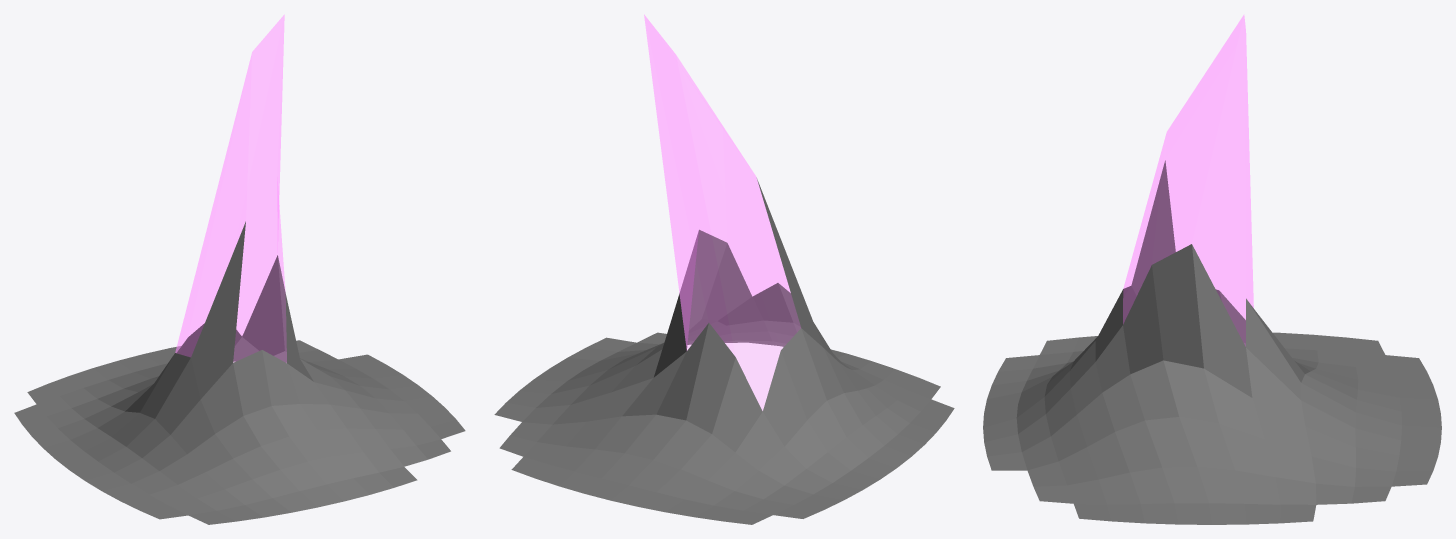
The model's file is CaveThing2.fbx.
3 renders of one model, left to right at view 1: azimuth 30°, elevation 25°; view 2: azimuth 150°, elevation 25°; view 3: azimuth 270°, elevation 25°, orthographic. The views are drawn at different scales.
Visible parts, largest first — view 1: CaveThing2; view 2: CaveThing2; view 3: CaveThing2.
Boxes of the visible parts, <box> form: CaveThing2: <box>14,14,465,524</box>; CaveThing2: <box>494,14,954,524</box>; CaveThing2: <box>983,15,1441,524</box>.
Size of the model in its own units: 137 by 147 by 138.
